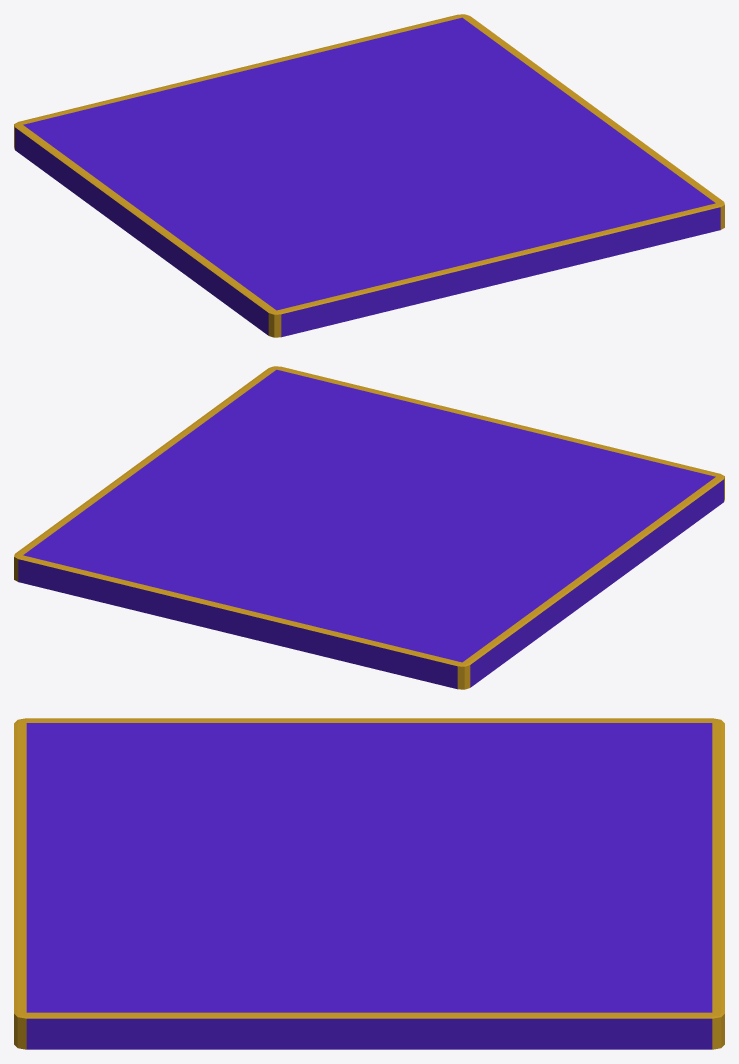
The model's file is platform01.fbx.
3 renders of one model, top to bottom at view 1: azimuth 30°, elevation 25°; view 2: azimuth 150°, elevation 25°; view 3: azimuth 270°, elevation 25°, orthographic. The views are drawn at different scales.
Parts seen in each view (by area): view 1: Cube; view 2: Cube; view 3: Cube.
Boxes of the visible parts, x1,y1,x2,y2 form: Cube: (14, 14, 724, 337); Cube: (14, 366, 724, 689); Cube: (14, 718, 724, 1049).
Bounding box in the file's own units: 1000 × 50 × 1000.
